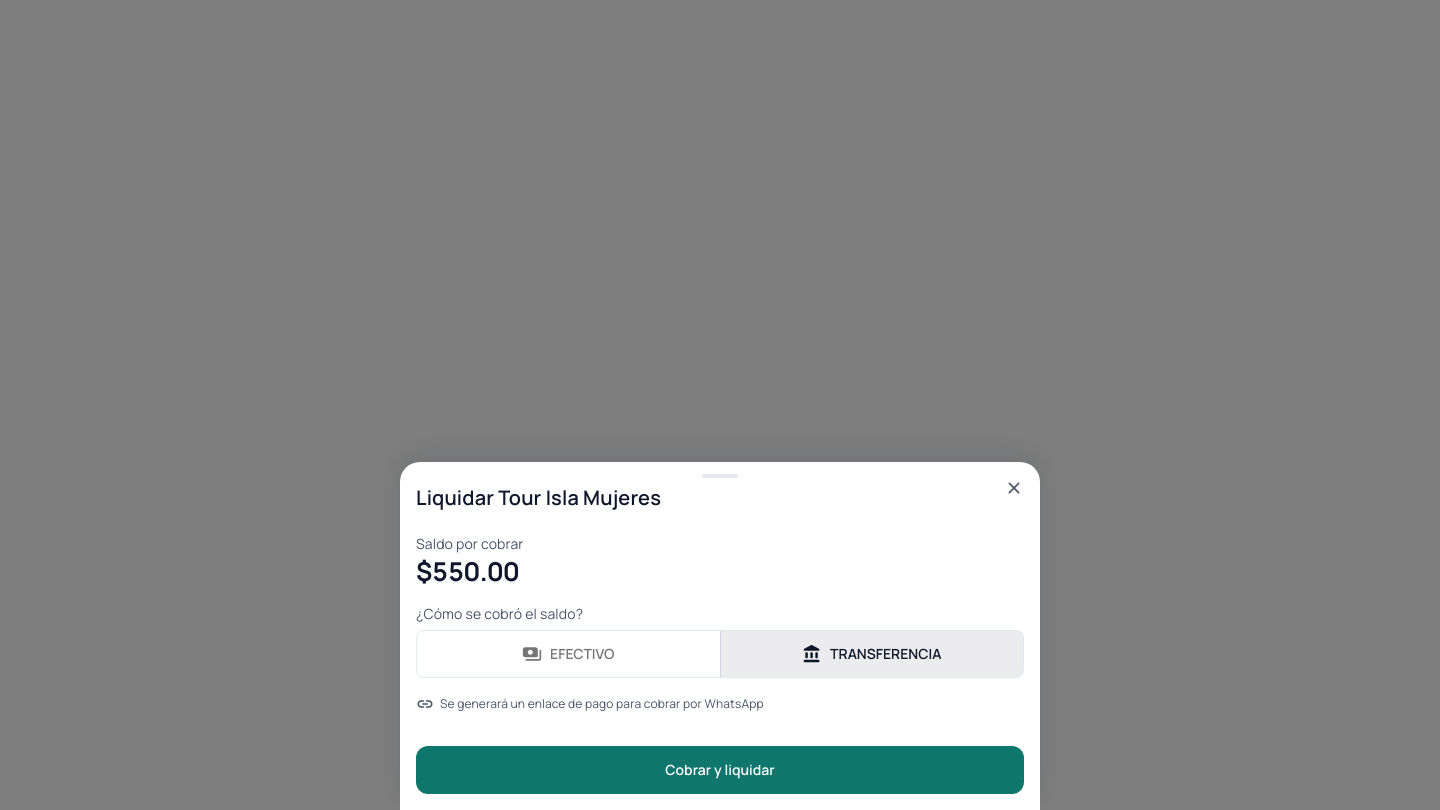
Test: devolada-transfer-verification US3 — connected, the balance is collected by enlace › one line’s settle posts to that line and shows the enlace it answered
The width and height of the screenshot is (1440, 810).
Expected: the text "Se generará un enlace de pago para cobrar por WhatsApp" is shown, [440, 694, 764, 714]
Click the button "Cobrar y liquidar": [720, 770] box [416, 746, 1024, 794]
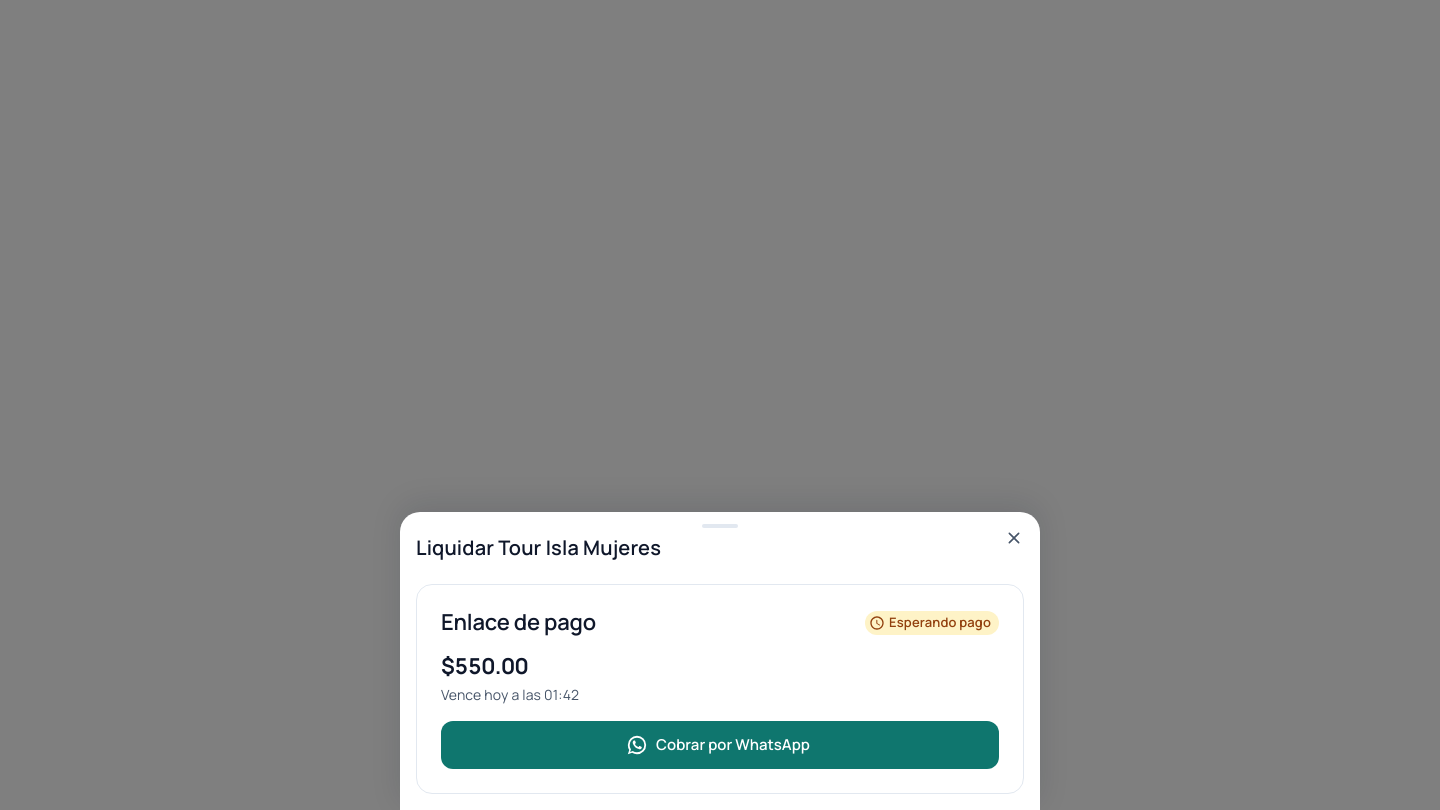
Expected: the text named "Monto del enlace: $550.00" is shown, [441, 651, 528, 681]
